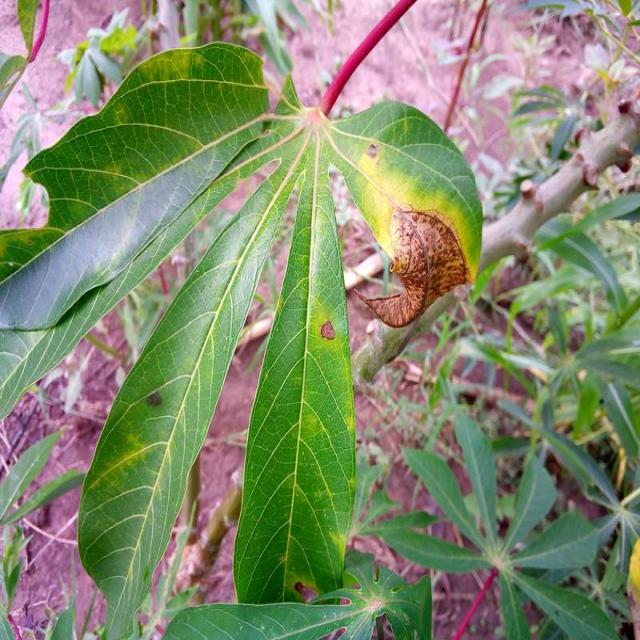cassava leaf: (2, 36, 486, 634), (76, 125, 310, 637), (1, 40, 272, 419), (233, 139, 358, 606), (326, 98, 484, 328)
